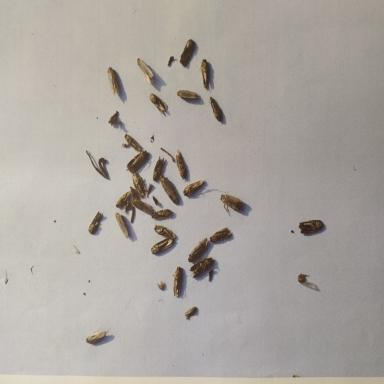pbw: (158, 172, 182, 207), (218, 191, 246, 219), (188, 254, 216, 281), (186, 236, 212, 264), (126, 148, 150, 178), (179, 38, 198, 70), (297, 218, 325, 239), (84, 325, 112, 346), (182, 176, 208, 198), (149, 235, 176, 256), (148, 91, 169, 118), (196, 57, 212, 92), (170, 264, 185, 300), (174, 148, 189, 182), (86, 210, 104, 238), (208, 94, 224, 125), (208, 226, 234, 245), (132, 198, 156, 218), (114, 211, 131, 239), (131, 170, 148, 198), (136, 57, 154, 83), (106, 66, 121, 97), (153, 223, 178, 241), (123, 132, 143, 154), (176, 87, 202, 103), (152, 154, 165, 183), (114, 190, 132, 210), (149, 207, 175, 220), (183, 304, 198, 324), (128, 184, 141, 206), (127, 205, 137, 225)
